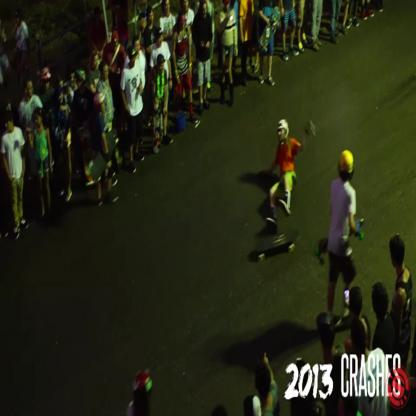Fall_Down: (257, 119, 315, 231)
